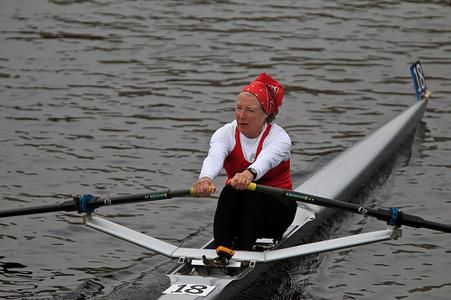person: (195, 74, 299, 250)
